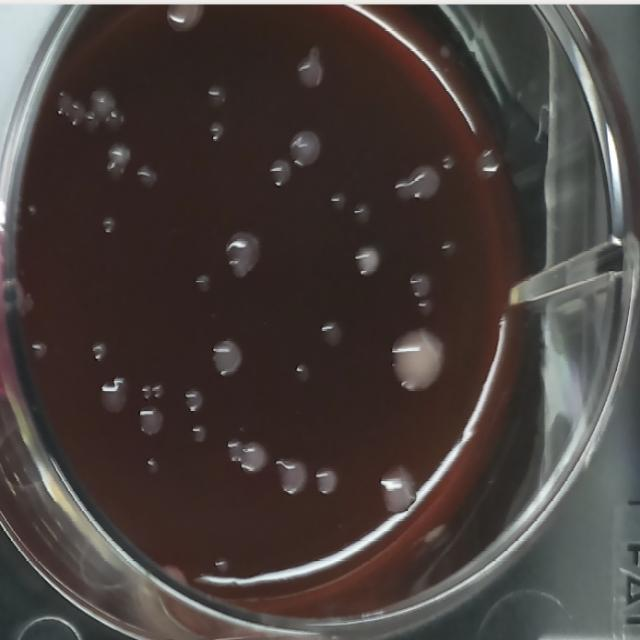Acinetobacter: (225, 229, 265, 279), (287, 126, 322, 172)
Alteromonas: (319, 319, 346, 350), (349, 199, 374, 228), (408, 271, 432, 299), (326, 187, 348, 215), (439, 237, 458, 263)
Bacillus: (385, 319, 449, 399)
Pseudoalteromonas: (312, 466, 340, 502)
Staphylococcus: (353, 242, 383, 280)
